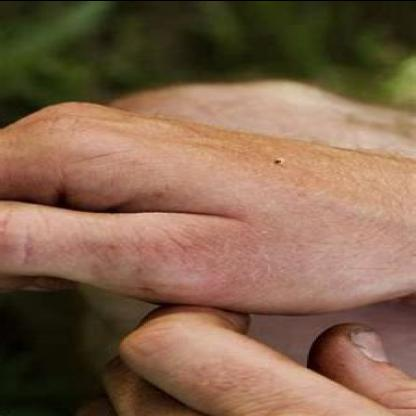Wasp: (99, 246, 236, 298)
